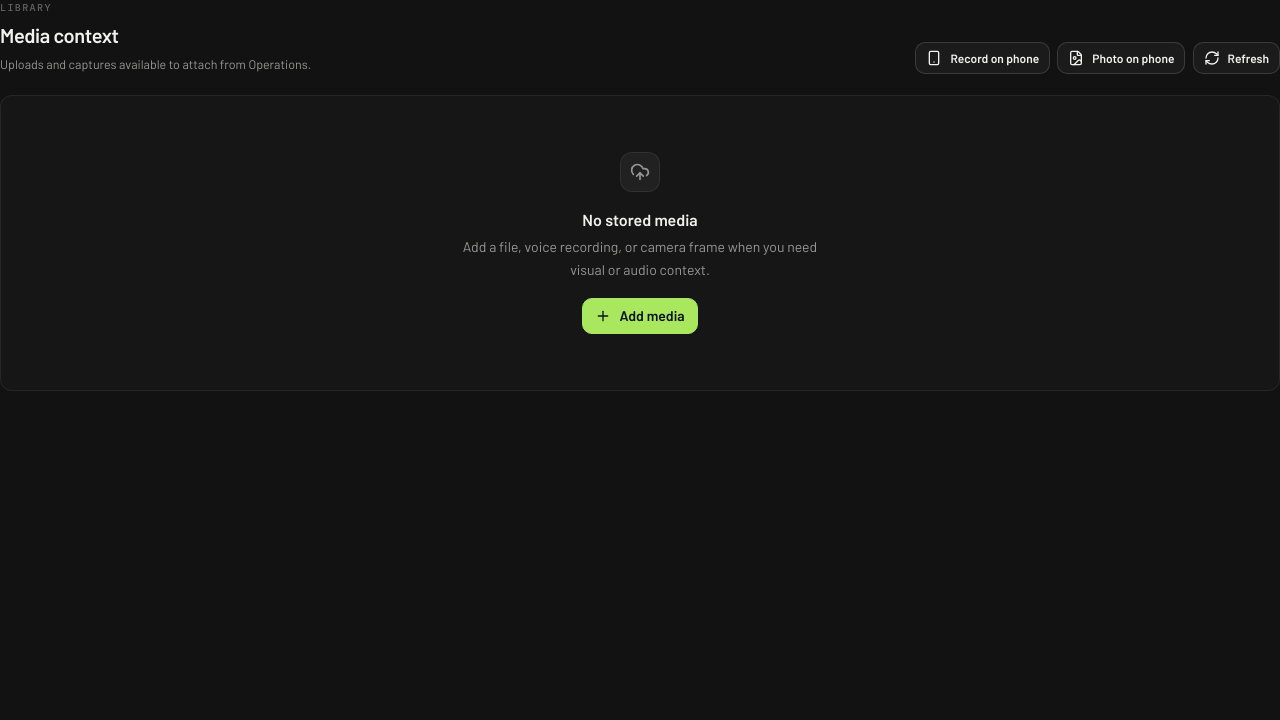
Scenario: shows only the selected capture workflow
Click the button "Add media" at (640, 316), box [582,298,698,334]
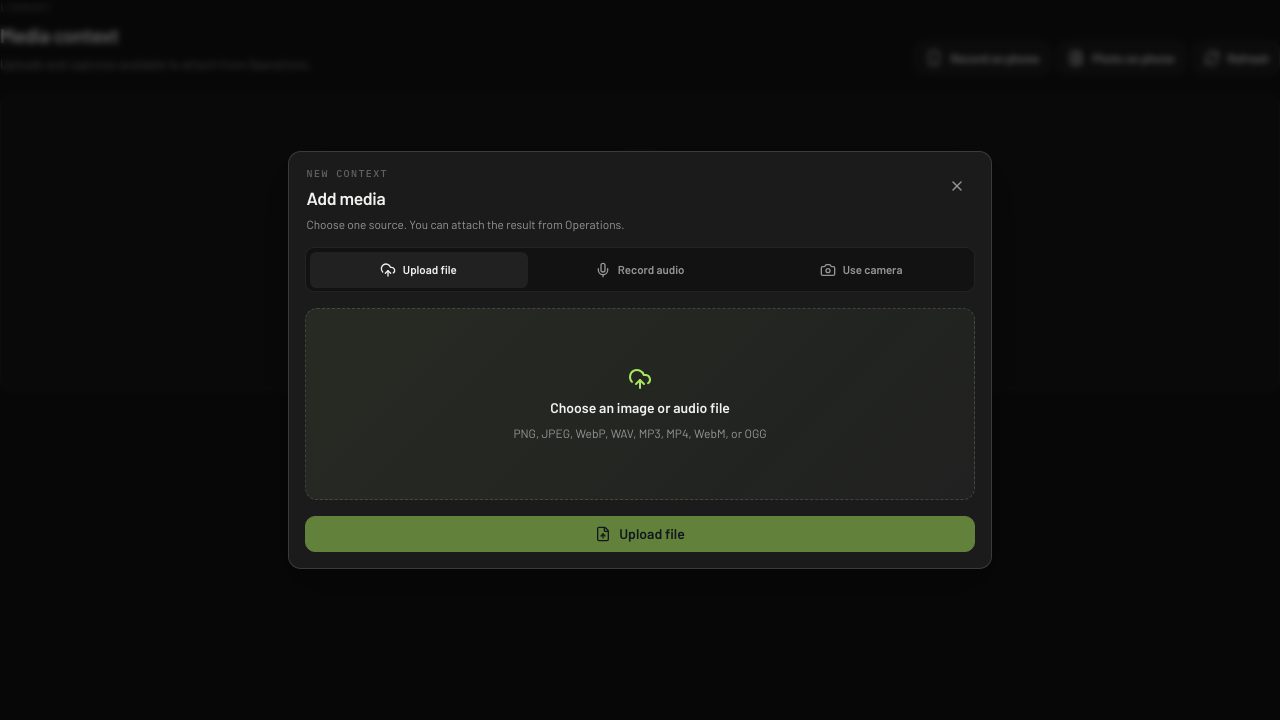
Click the tab "Record audio" at (640, 270), box [531,252,749,288]
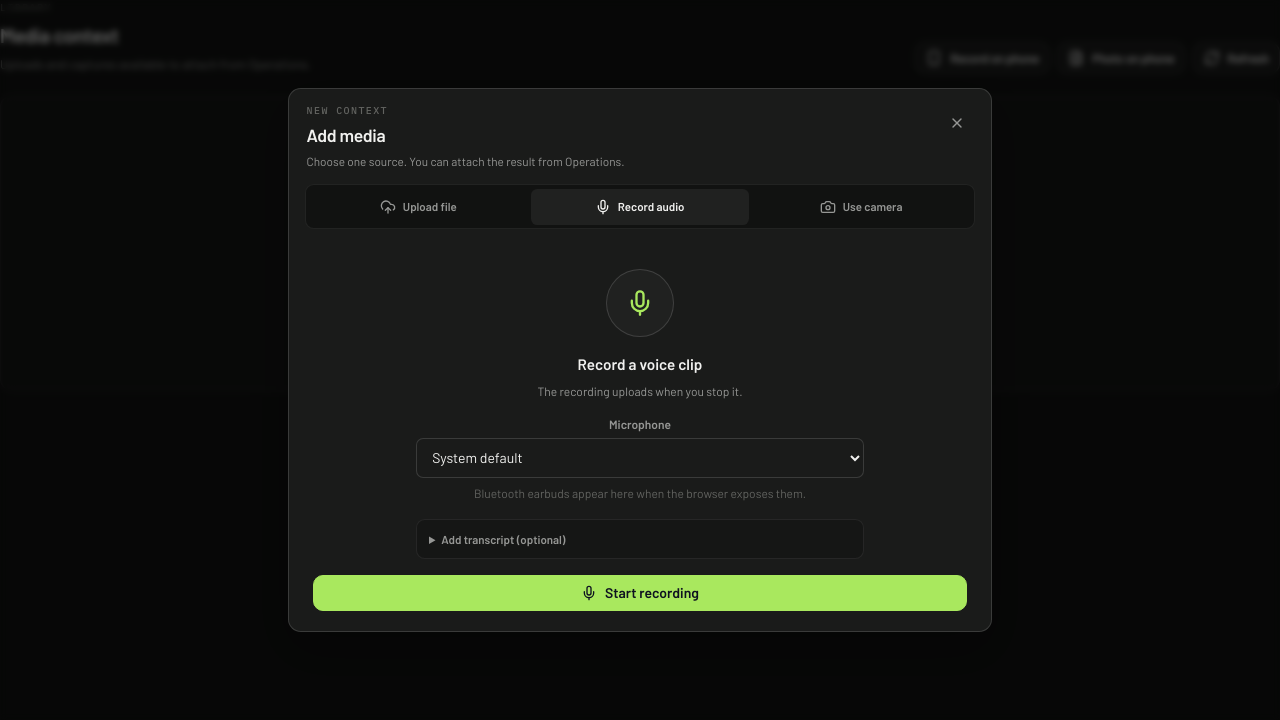
Result: the button "Start recording" is shown at [313,575,967,611]
Result: the text "Choose an image or audio file" is gone
Click the tab "Use camera" at (861, 207), box [752,189,970,225]
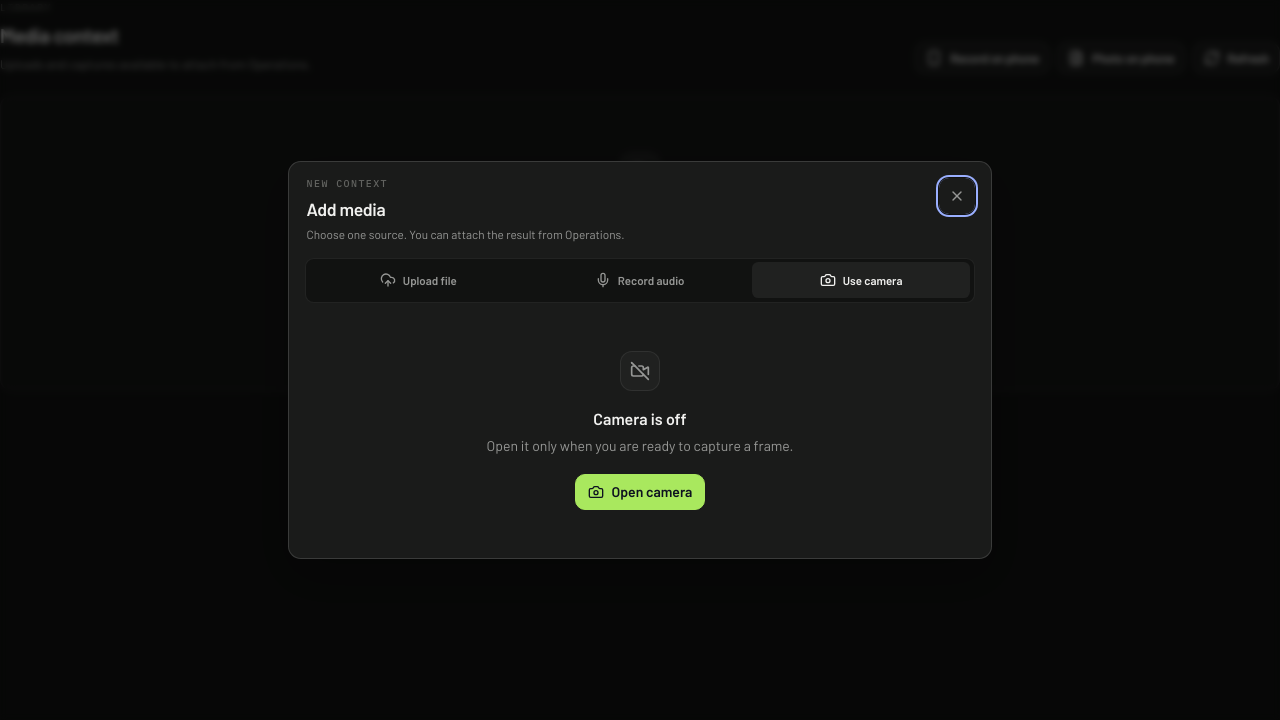
Result: the heading "Camera is off" is shown at [593,407,687,431]
Result: the button "Open camera" is shown at [574,474,705,510]
Result: the button "Start recording" is gone
